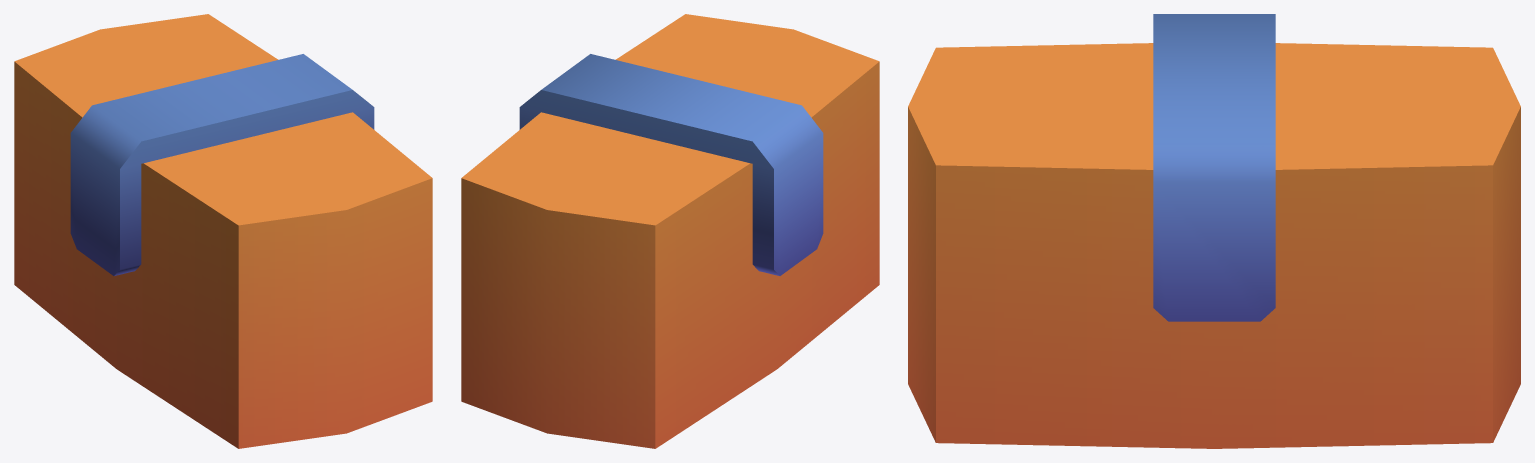
The model's file is box-wide.obj.
3 renders of one model, left to right at view 1: azimuth 30°, elevation 25°; view 2: azimuth 150°, elevation 25°; view 3: azimuth 270°, elevation 25°, orthographic. The views are drawn at different scales.
Visible parts, largest first — view 1: box-wide; view 2: box-wide; view 3: box-wide.
Boxes of the visible parts, x1=… form: box-wide: x1=14, y1=14, x2=432, y2=448; box-wide: x1=461, y1=14, x2=879, y2=448; box-wide: x1=908, y1=14, x2=1520, y2=448.
Size of the model in its own units: 0.595 by 0.55 by 1.
